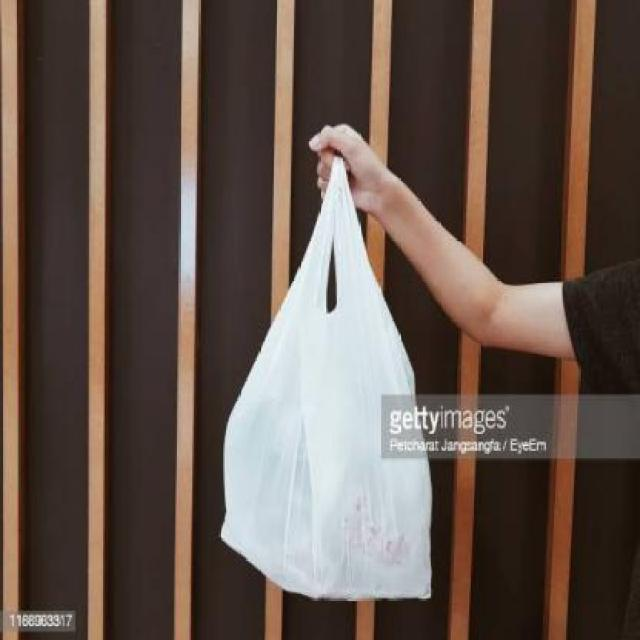plastic bag: (217, 160, 481, 613)
